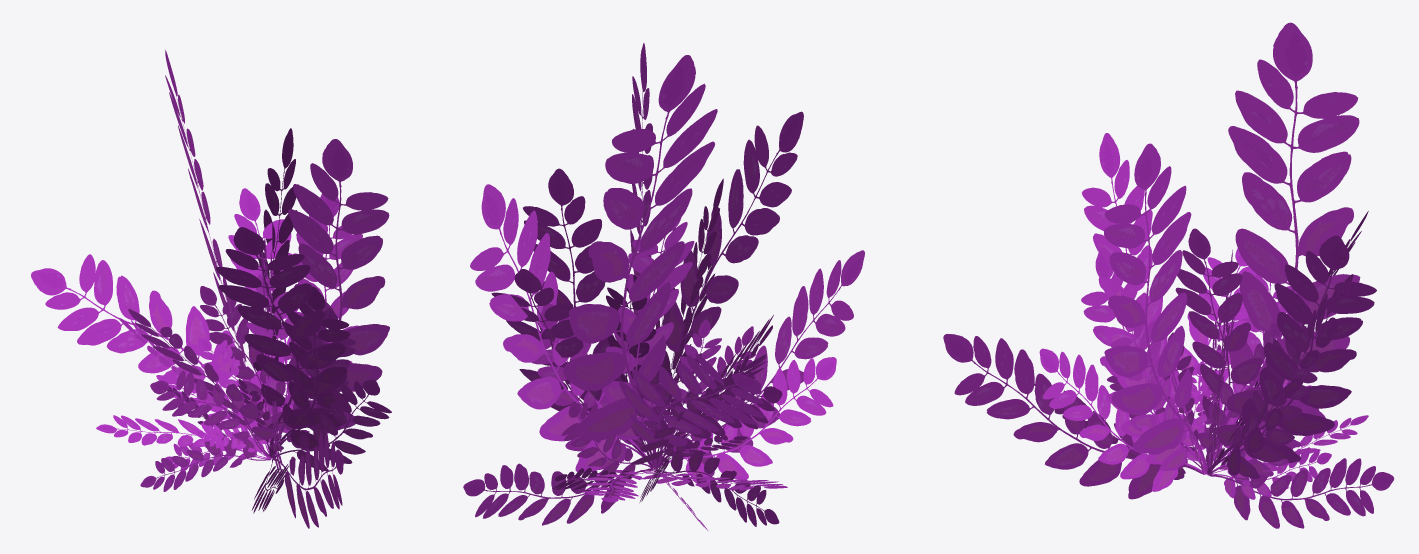
The model's file is purplebush4.fbx.
The picture shows the model from 3 angles, left to right: view 1: azimuth 30°, elevation 25°; view 2: azimuth 150°, elevation 25°; view 3: azimuth 270°, elevation 25°; orthographic projection. The views are drawn at different scales.
Parts seen in each view (by area): view 1: pPlane164; view 2: pPlane164; view 3: pPlane164.
Boxes of the visible parts, bbox=[...] form: pPlane164: bbox=[31, 50, 391, 528]; pPlane164: bbox=[463, 43, 864, 530]; pPlane164: bbox=[943, 22, 1394, 528].
Size of the model in its own units: 9.31 by 13.51 by 12.32.
